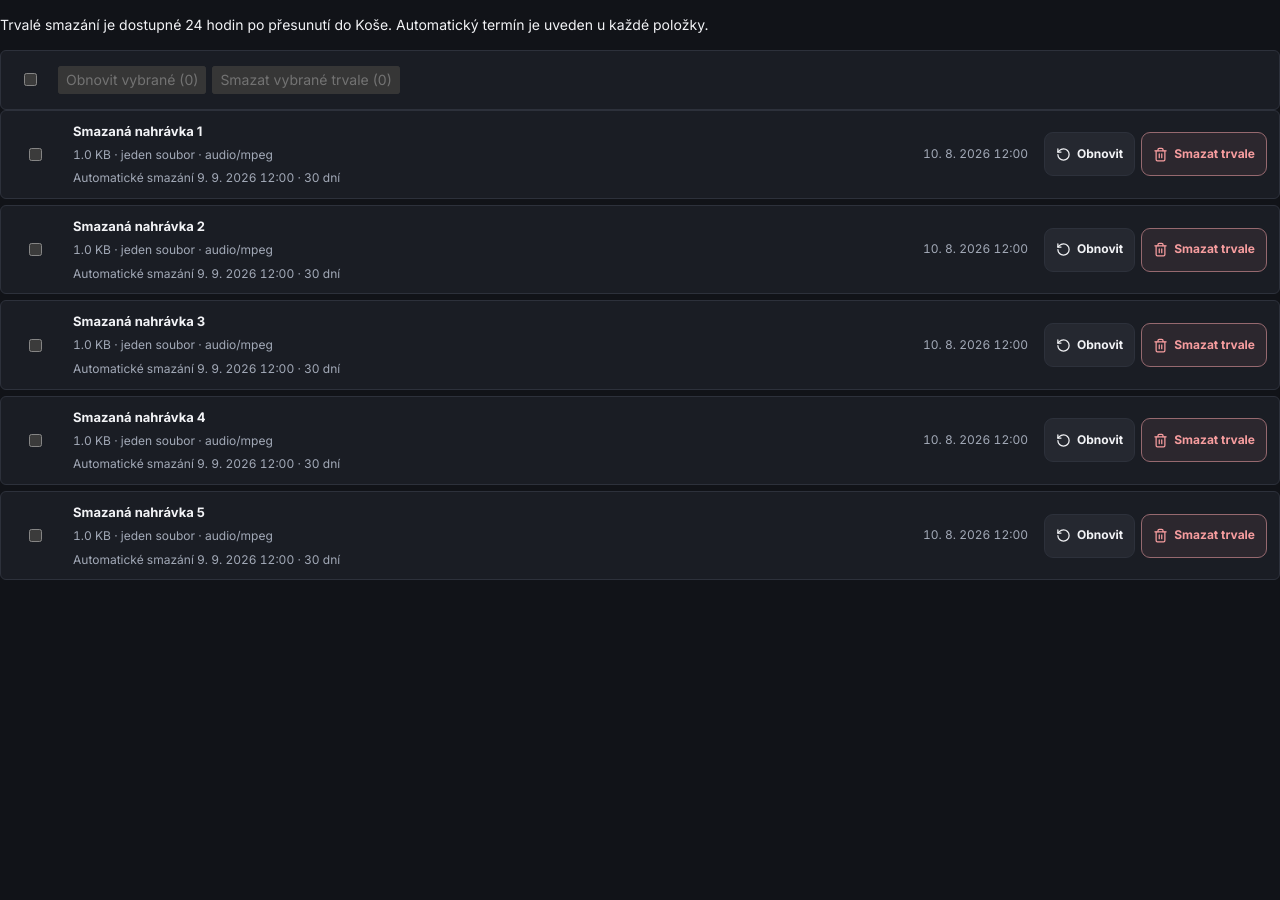
it: trash recording actions › runs one-item purge requests with concurrency two and cancels only pending ids
What coordinates should you click on to do the following:
click the checkbox named "Vybrat všechny nahrávky v Koši"
I would click on:
 (30, 80)
Its box is [24,73,37,86].
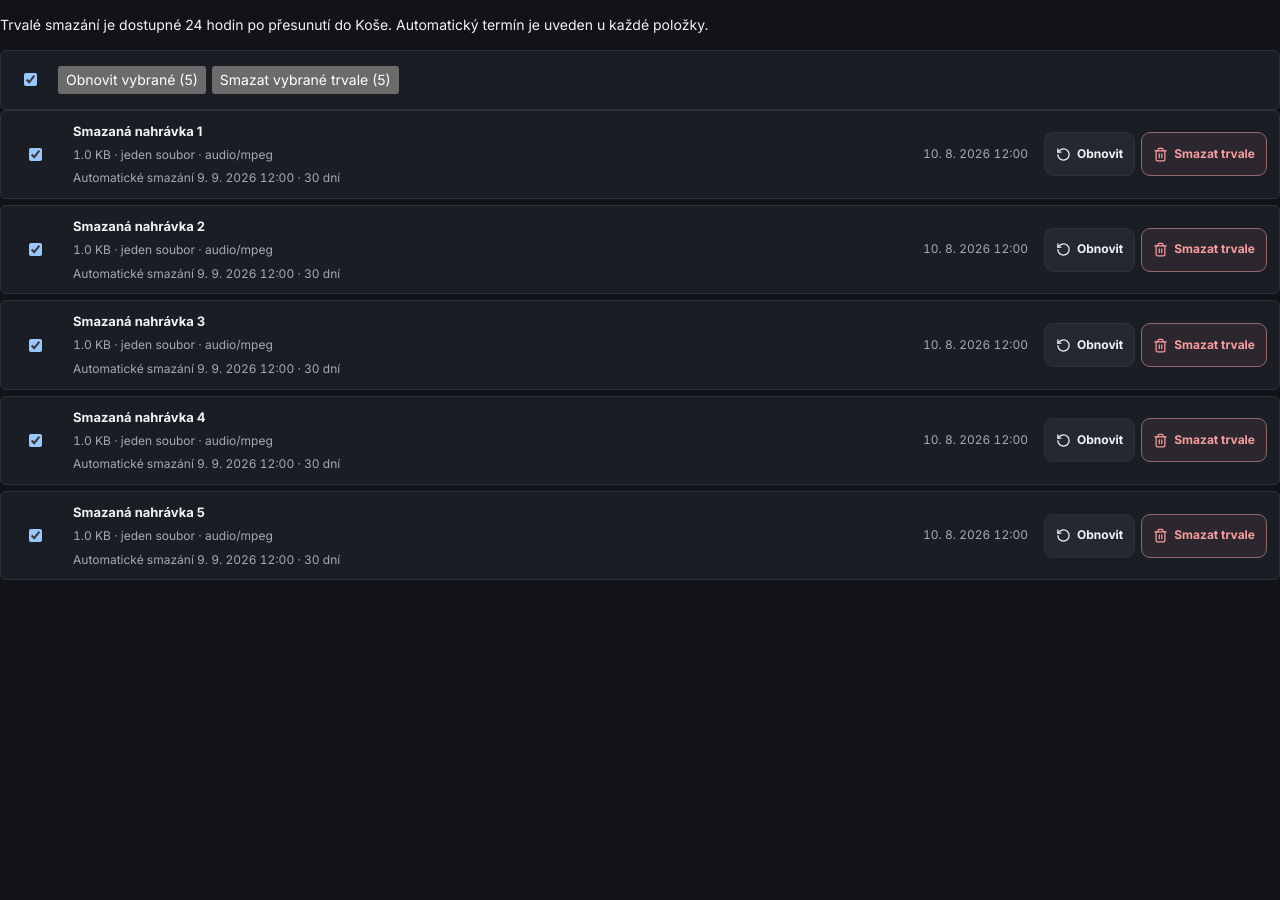
What coordinates should you click on to do the following:
click the button "Smazat vybrané trvale (5)"
I would click on:
 (305, 80)
Its box is [212,66,399,94].
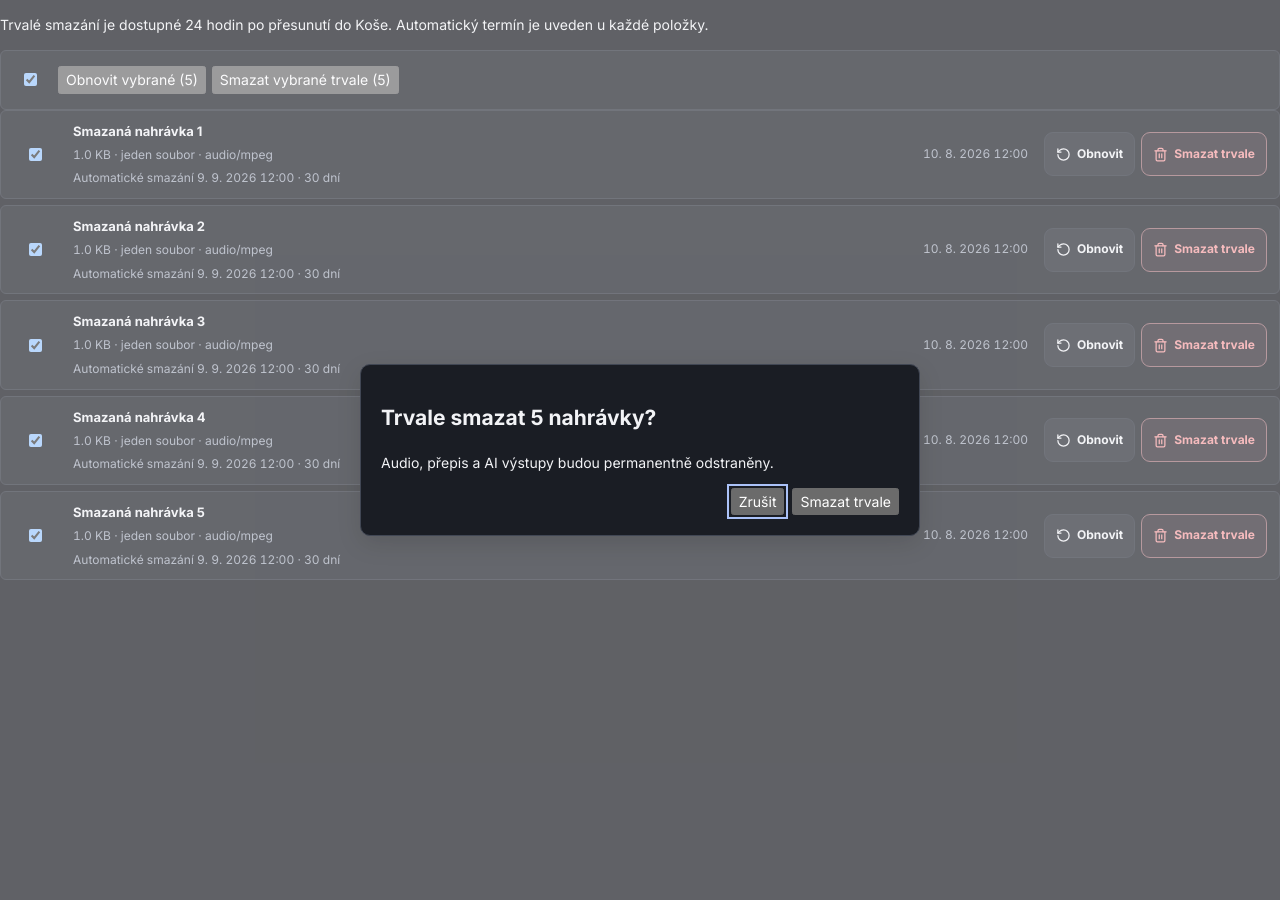
What coordinates should you click on to do the following:
click the button "Smazat trvale"
I would click on:
 (846, 502)
Its box is [792,488,899,515].
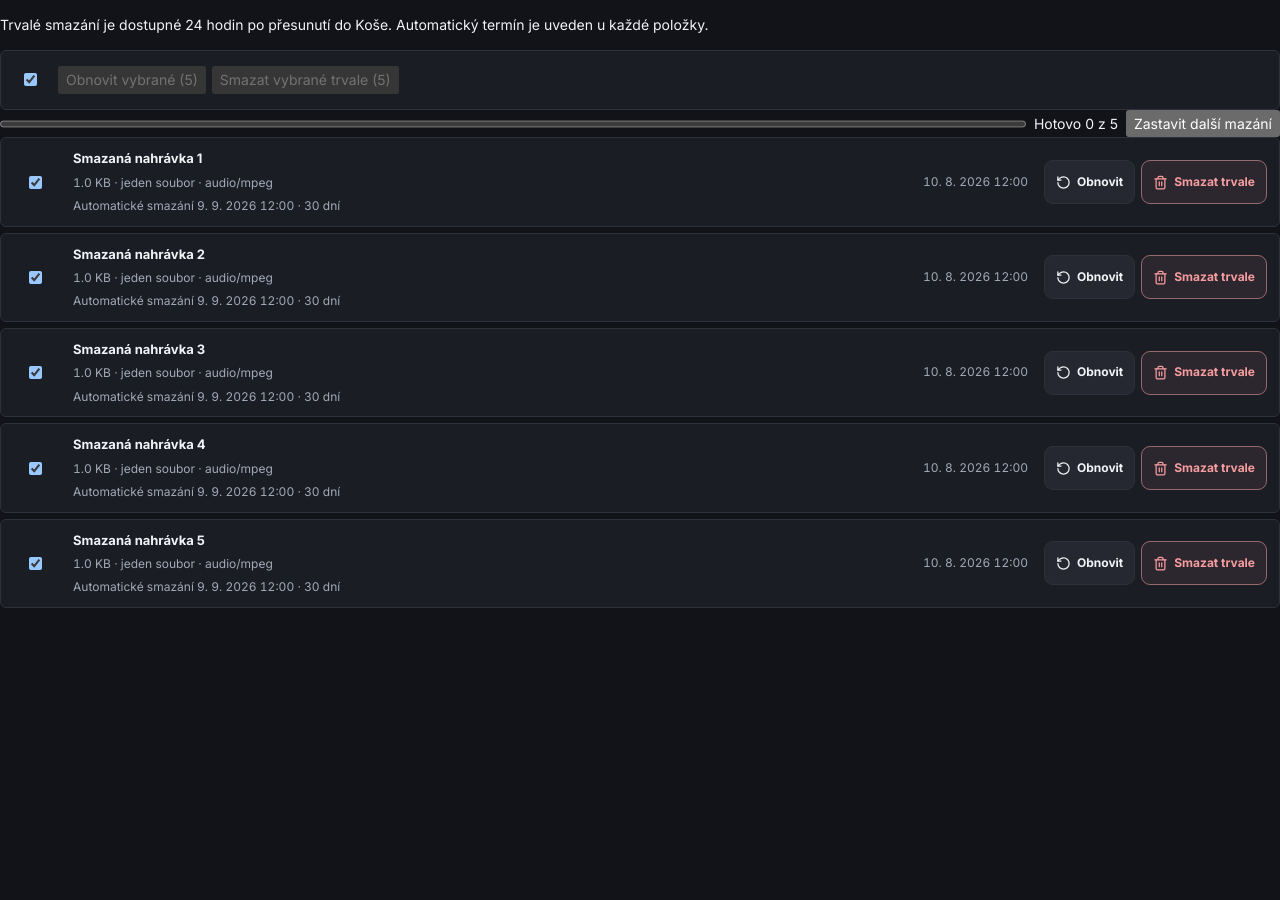
Now the progress indicator named "Průběh trvalého mazání" holds "0", box [0,116,1026,130]
What coordinates should you click on to do the following:
click the button "Zastavit další mazání"
I would click on:
 (1203, 124)
Its box is [1126,110,1279,137].
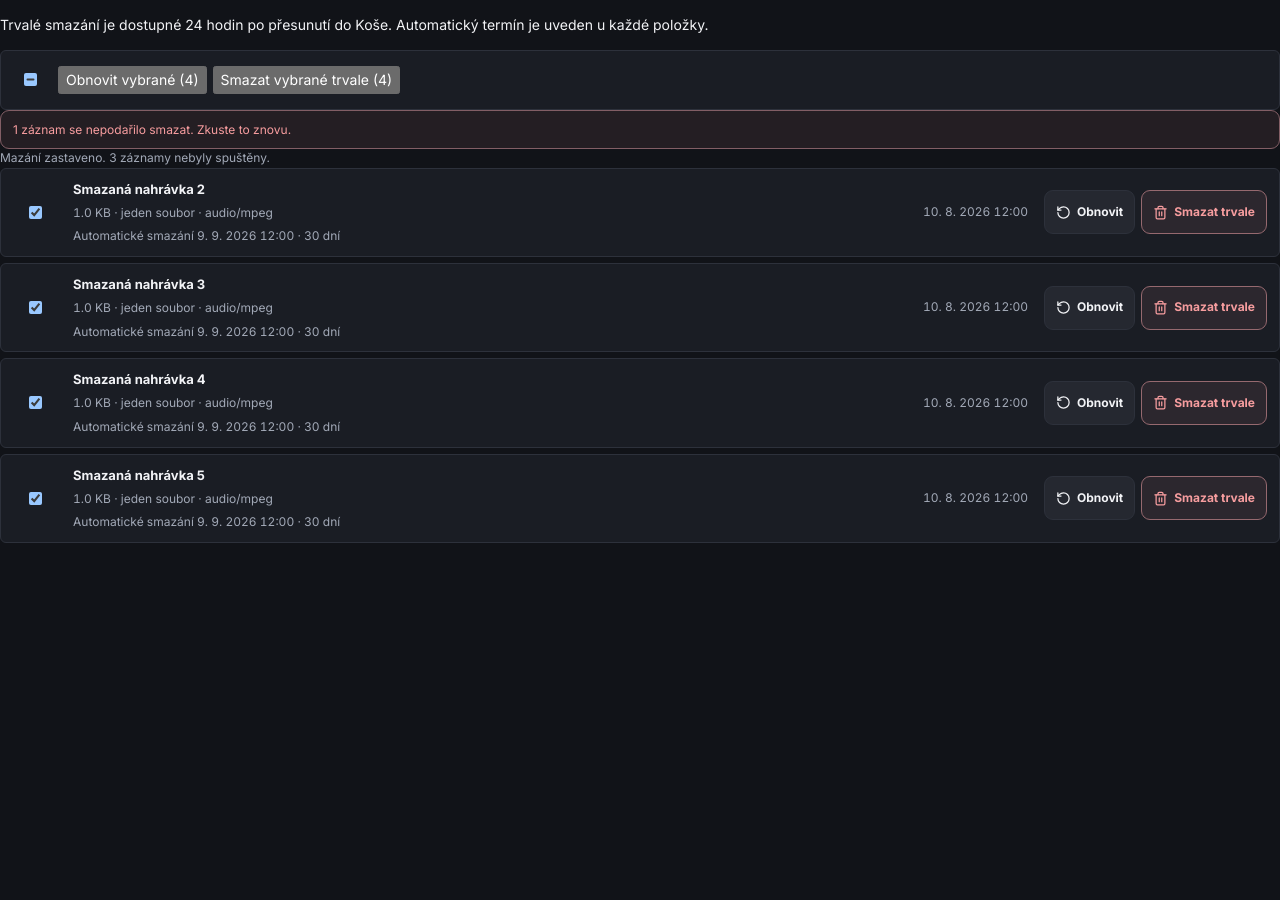
Now the text "3 záznamy nebyly spuštěny" is shown, box [0,150,270,165]
